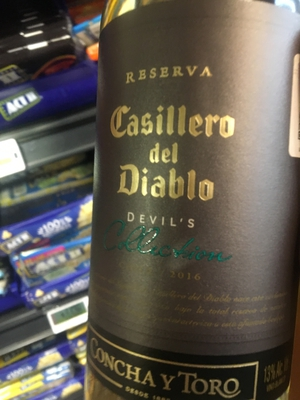casillero del diablo devils collection verde: (74, 6, 300, 391)
